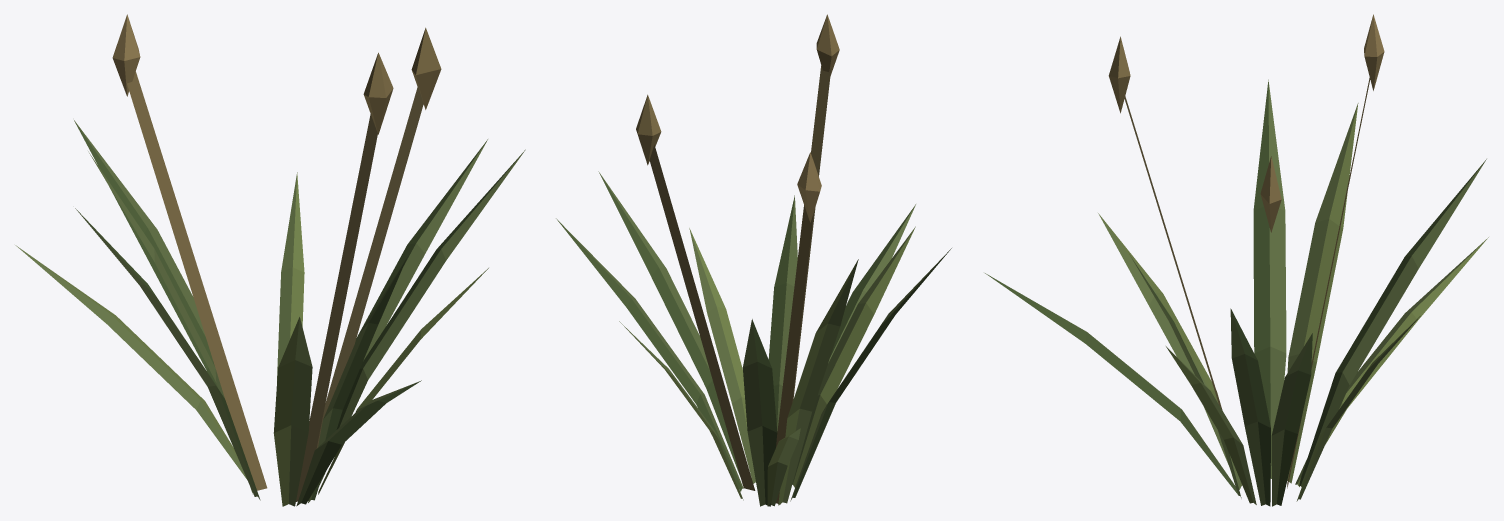
Rendered from river-sedge.glb.
3 renders of one model, left to right at view 1: azimuth 30°, elevation 25°; view 2: azimuth 150°, elevation 25°; view 3: azimuth 270°, elevation 25°, orthographic. The views are drawn at different scales.
Visible parts, largest first — view 1: Sedge leaves and tight golden panicles; view 2: Sedge leaves and tight golden panicles; view 3: Sedge leaves and tight golden panicles.
Part boxes in pixels (x1,y1,x2,y2): Sedge leaves and tight golden panicles: [15, 14, 525, 506]; Sedge leaves and tight golden panicles: [556, 14, 951, 506]; Sedge leaves and tight golden panicles: [985, 14, 1488, 506].
Size of the model in its own units: 0.5201 by 0.561 by 0.5565.
